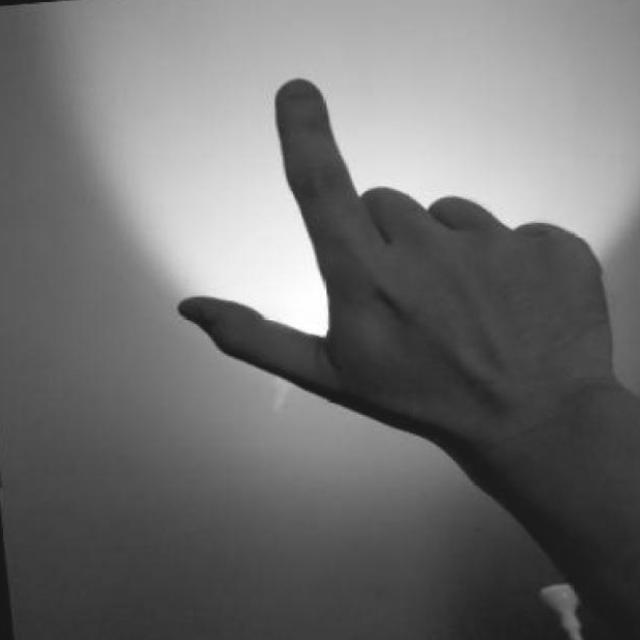L: (173, 68, 640, 481)
